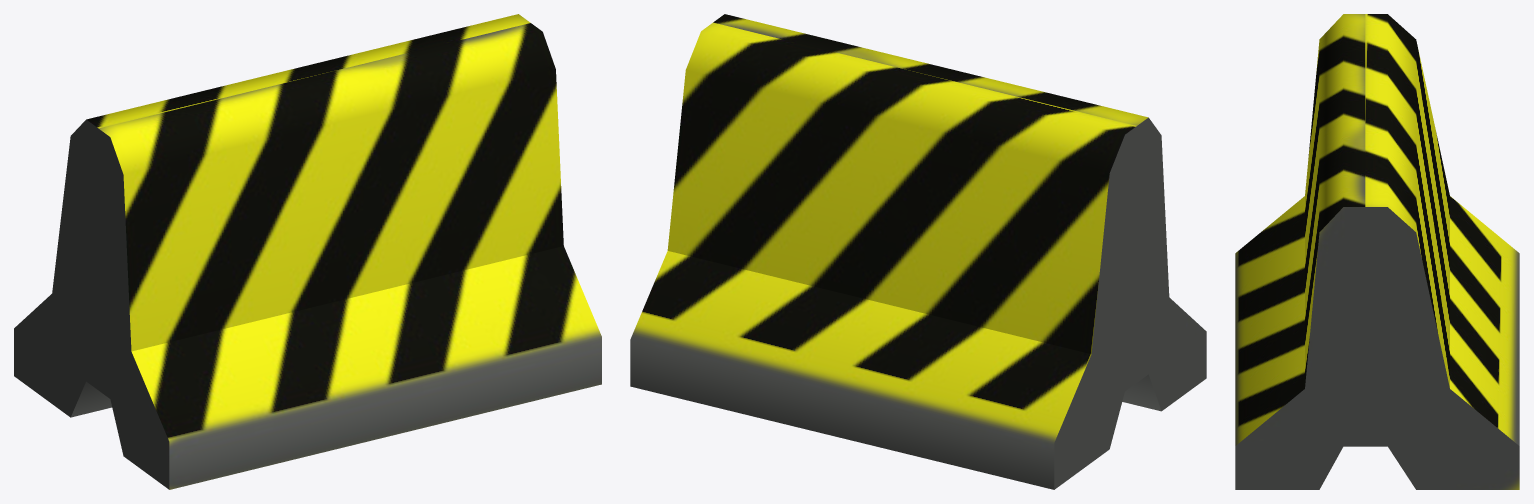
Rendered from Roadblock.fbx.
3 views of the same model, side by side, from view 1: azimuth 30°, elevation 25°; view 2: azimuth 150°, elevation 25°; view 3: azimuth 270°, elevation 25° (orthographic). The views are drawn at different scales.
Parts seen in each view (by area): view 1: Roadblock; view 2: Roadblock; view 3: Roadblock.
Part boxes in pixels (x1=…): Roadblock: x1=14, y1=14, x2=601, y2=489; Roadblock: x1=630, y1=14, x2=1206, y2=489; Roadblock: x1=1235, y1=14, x2=1519, y2=489.
Bounding box in the file's own units: 161 × 110 × 100.
1 material, 1 textured.
